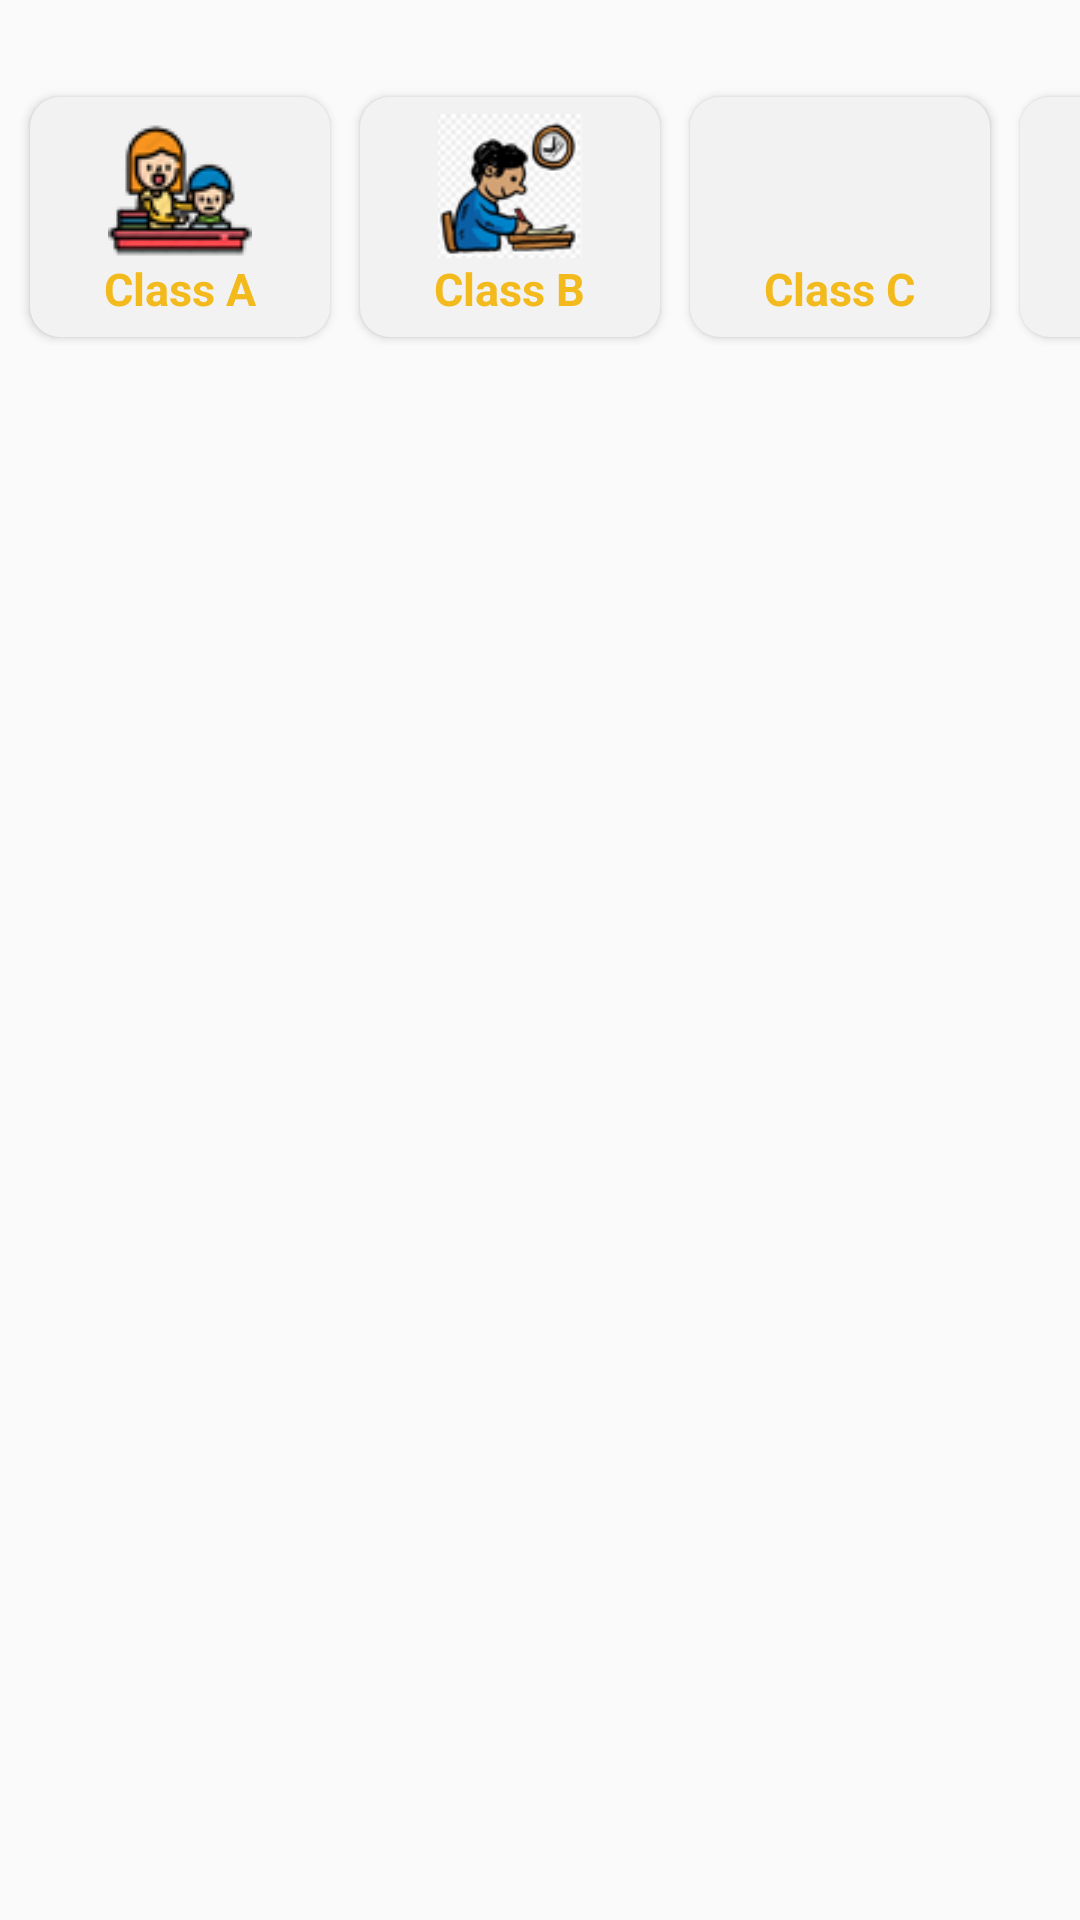

Locate icon controls on the screen. Image size 1080px x 1920px, boxes as Rect(x1, y1, x2, y2).
homework: Rect(440, 123, 576, 254), Rect(108, 125, 252, 256)
